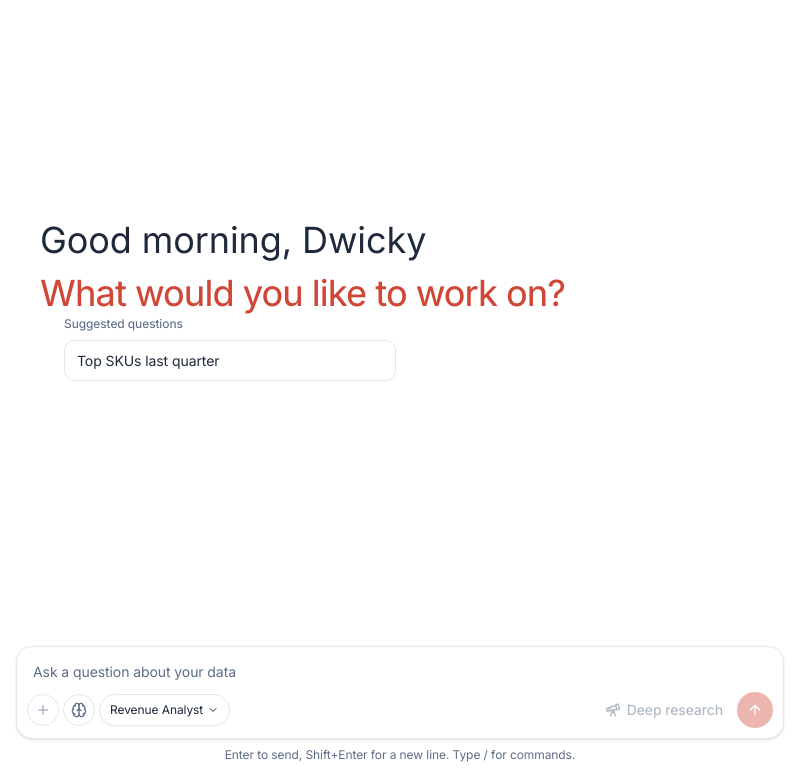
Test: studio transcript click-through › keeps welcome suggestions above a stationary composer across the first send
Expected: the heading "Good morning, Dwicky" is shown, [40,218,426,262]
Type "Top SKUs" into the text box named "Message Nova" at coordinates (400, 670), box [17,647,783,692]
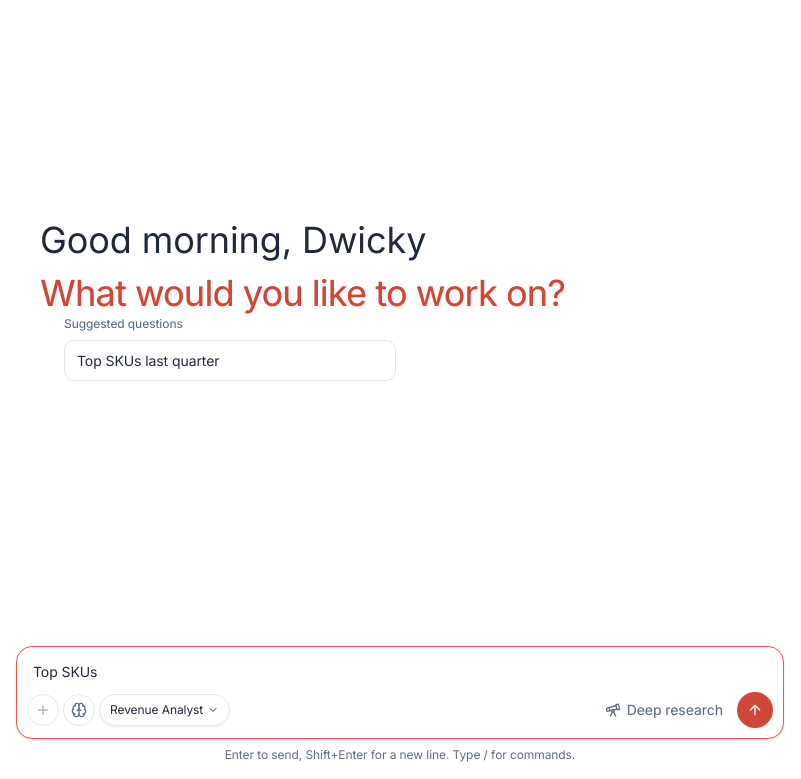
Click the button named "Send" at coordinates (755, 710), box [737,692,773,728]
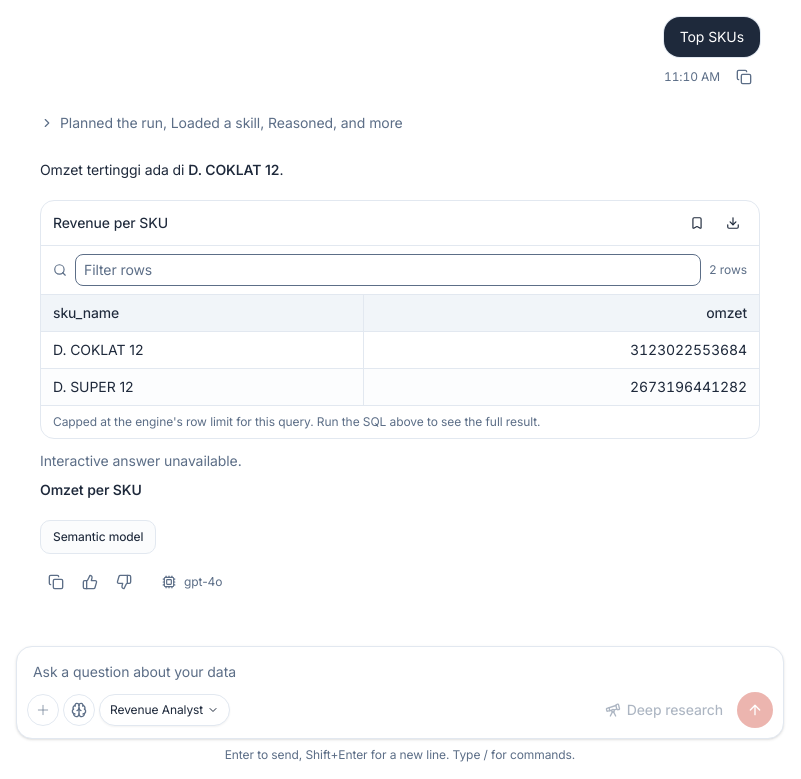
Now the heading "Revenue per SKU" is shown, box [53,214,168,231]
